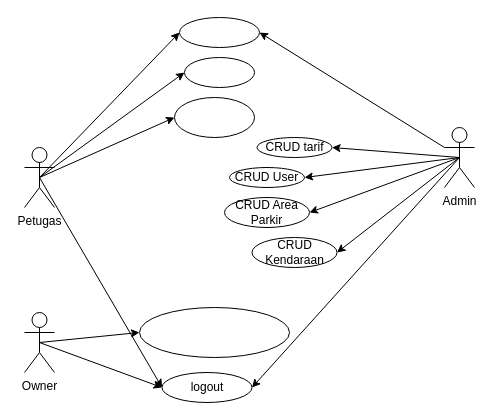
Some shapes in this 493 by 420 pixel diagram are drawn without their labels. The shapes that lost their labels are listed below. From the top down, each one's box as (x1, y1, x2, y2) in pixels, then its label:
(178, 16, 260, 48): login
(184, 56, 254, 88): cetak pdf
(174, 96, 254, 138): transaksi
(138, 306, 290, 358): Rekap transaksi sesuai waktu yang diminta
